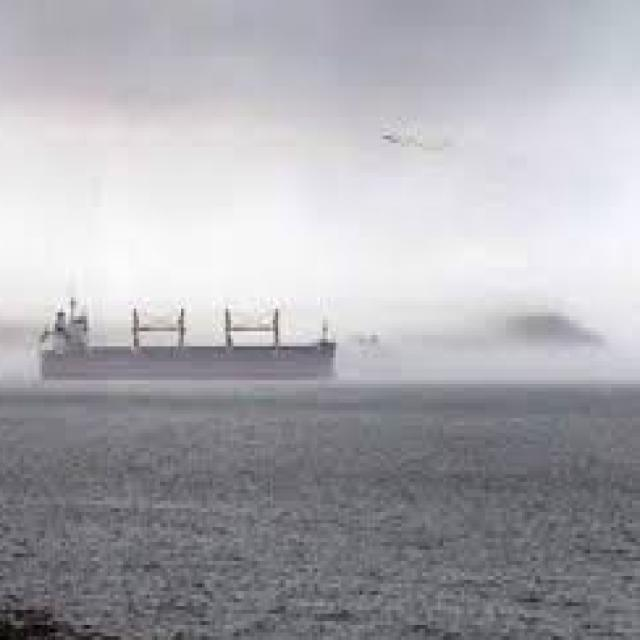cargoship: (31, 293, 339, 382)
